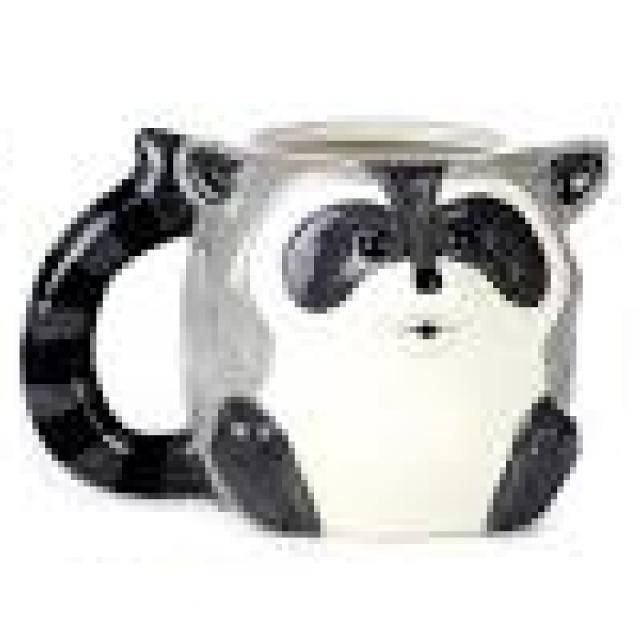Coffee Mug: (20, 116, 610, 544)
